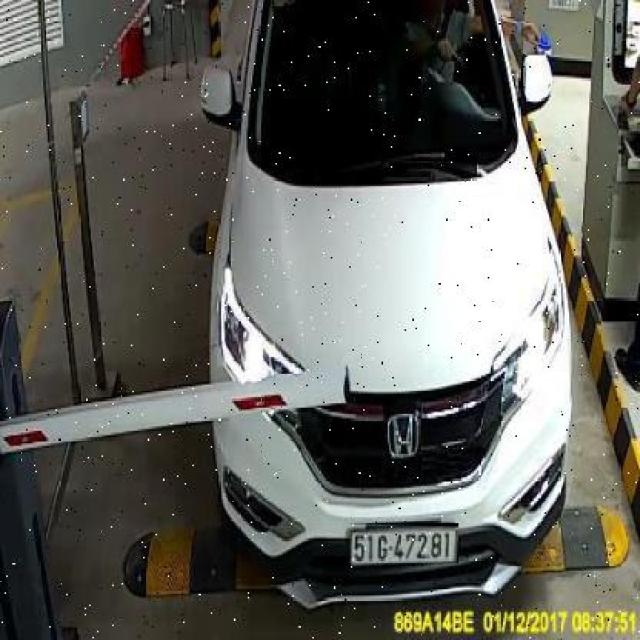number_plate: (346, 524, 459, 564)
